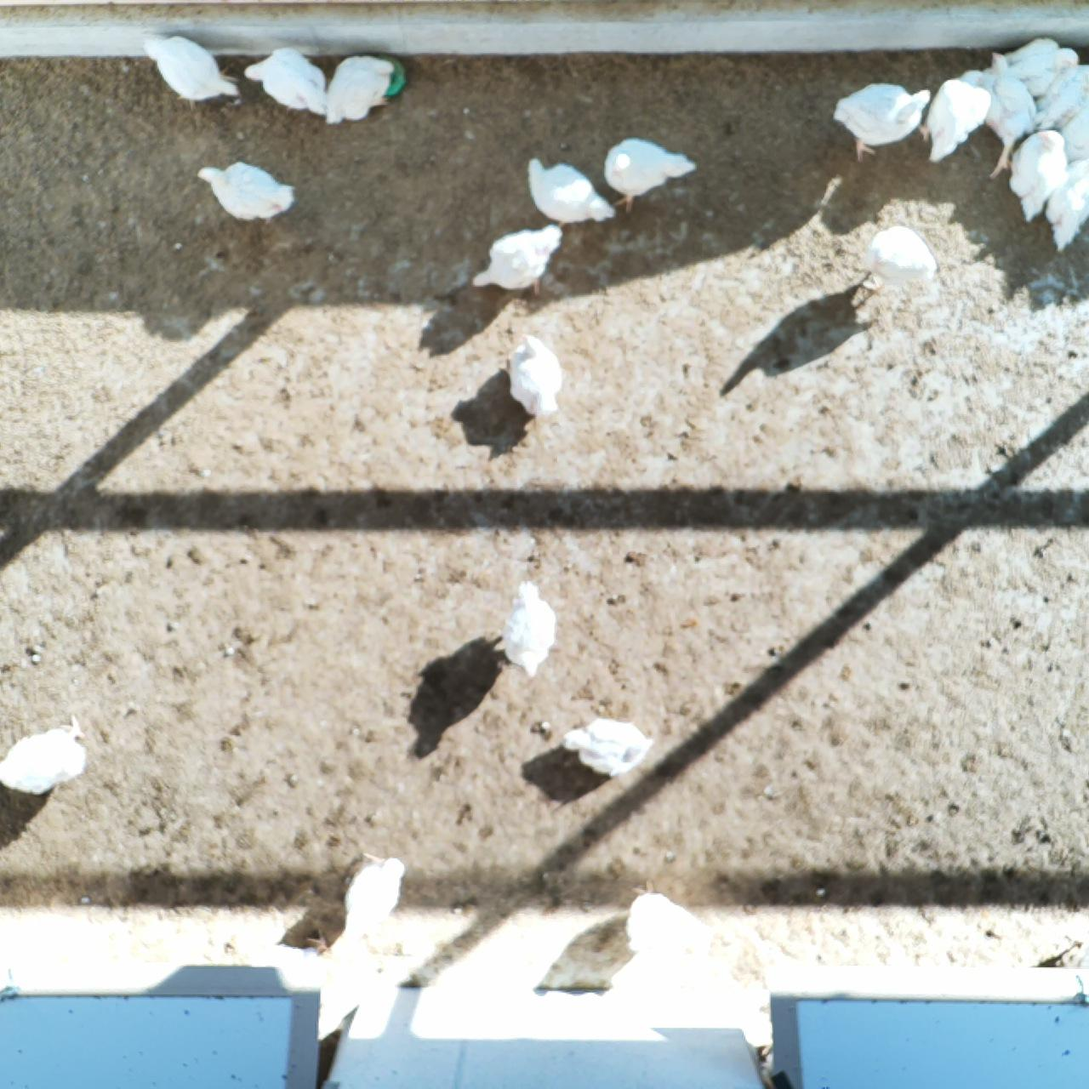chicken: (831, 79, 934, 165), (140, 31, 243, 108), (291, 929, 373, 1024), (602, 135, 698, 215), (980, 48, 1038, 180), (0, 713, 89, 798), (623, 876, 714, 959), (917, 67, 993, 166), (524, 154, 620, 229), (192, 159, 298, 225), (470, 224, 564, 297), (555, 715, 656, 780), (242, 45, 328, 117), (500, 579, 560, 680), (1008, 126, 1068, 226), (497, 332, 565, 418), (322, 49, 394, 130), (1001, 33, 1082, 102), (860, 222, 938, 292), (341, 849, 401, 939), (1043, 157, 1089, 254), (1038, 60, 1089, 132), (1058, 103, 1089, 162)
